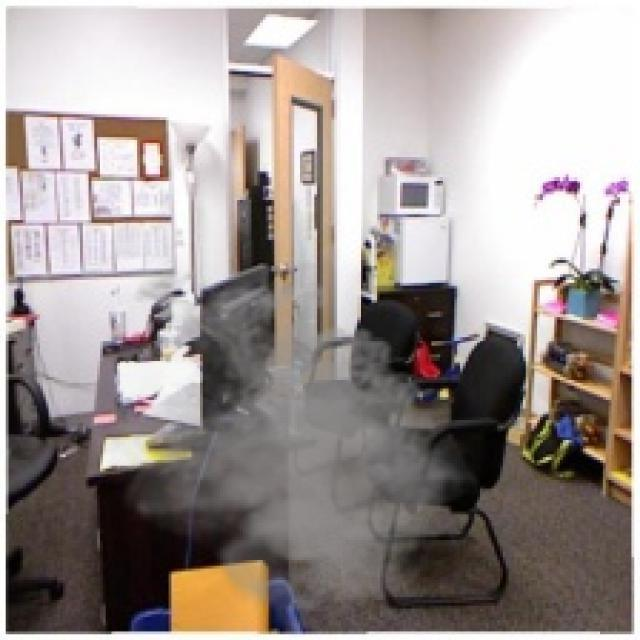Smoke: (66, 257, 477, 637)
